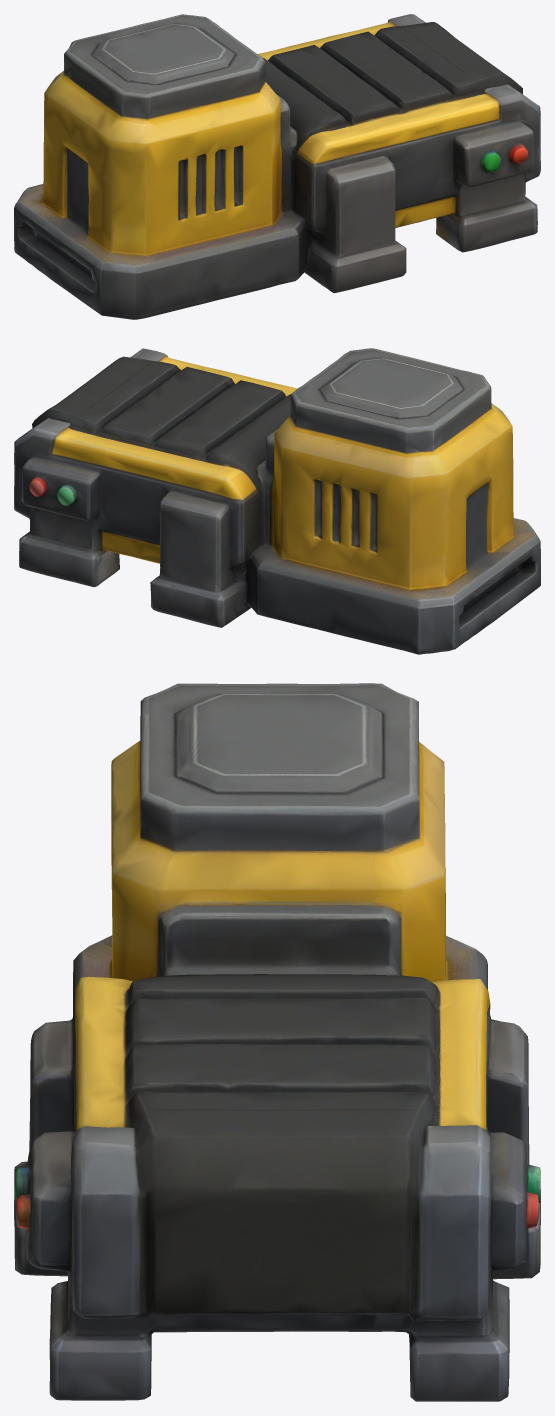
File: Meshy_AI_Industrial_Generator__0423081831_texture.fbx
The picture shows the model from 3 angles, top to bottom: view 1: azimuth 30°, elevation 25°; view 2: azimuth 150°, elevation 25°; view 3: azimuth 270°, elevation 25°; orthographic projection. The views are drawn at different scales.
Parts seen in each view (by area): view 1: Mesh_0; view 2: Mesh_0; view 3: Mesh_0.
Boxes of the visible parts, left/top/right/bottom form: Mesh_0: left=14, top=14, right=540, bottom=319; Mesh_0: left=14, top=348, right=540, bottom=654; Mesh_0: left=14, top=683, right=540, bottom=1401.
Size of the model in its own units: 200 by 97.9 by 117.
1 material, 1 textured.
